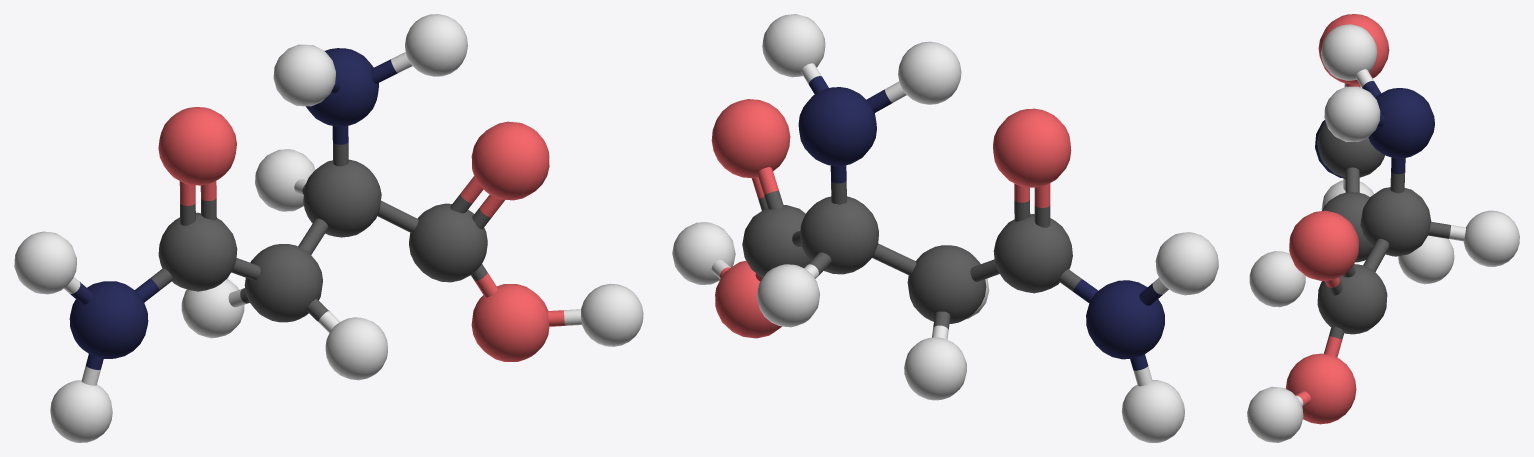
File: 10_Asparagina.fbx
The picture shows the model from 3 angles, left to right: view 1: azimuth 30°, elevation 25°; view 2: azimuth 150°, elevation 25°; view 3: azimuth 270°, elevation 25°; orthographic projection. The views are drawn at different scales.
Parts seen in each view (by area): view 1: m_asparagina_v.002; view 2: m_asparagina_v.002; view 3: m_asparagina_v.002.
Part boxes in pixels (x1=…): m_asparagina_v.002: x1=14, y1=14, x2=643, y2=442; m_asparagina_v.002: x1=672, y1=14, x2=1218, y2=442; m_asparagina_v.002: x1=1247, y1=14, x2=1519, y2=442.
Size of the model in its own units: 1689 by 968 by 771.
